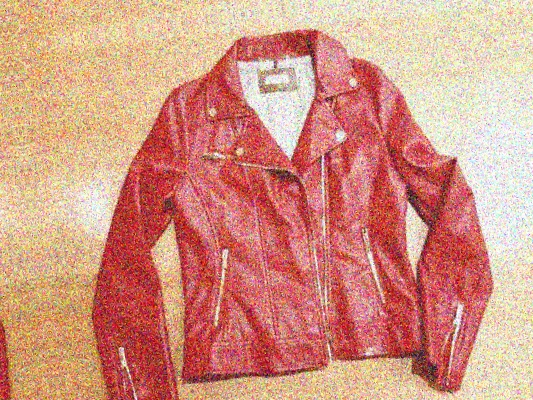Blazer: (45, 4, 533, 400), (0, 78, 33, 400), (0, 0, 481, 19), (102, 396, 533, 400), (530, 0, 533, 375)
